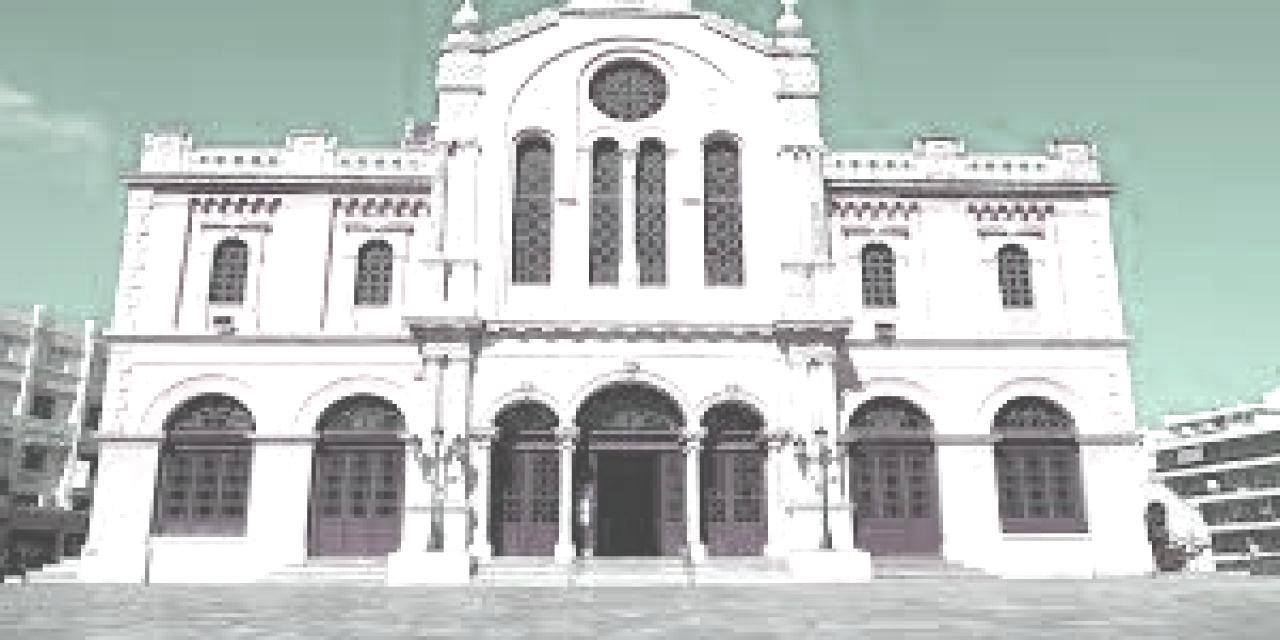Agios Minas: (73, 2, 1163, 589)
